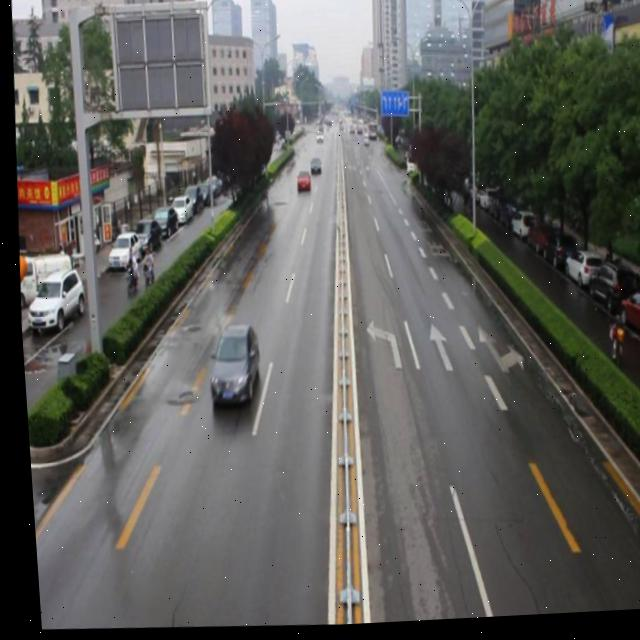car: (200, 325, 256, 408), (292, 171, 308, 193), (306, 159, 319, 177)
